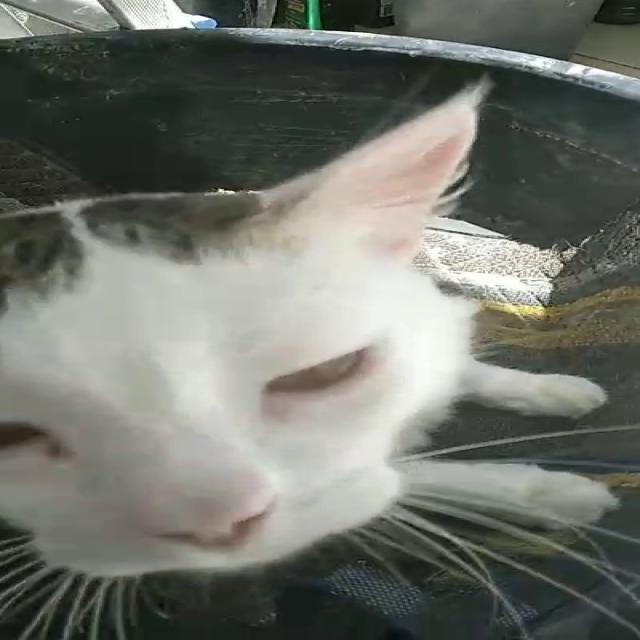Simba: (24, 55, 559, 632)
